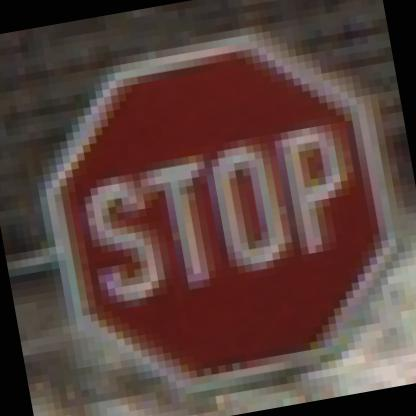stop: (19, 8, 415, 406)
